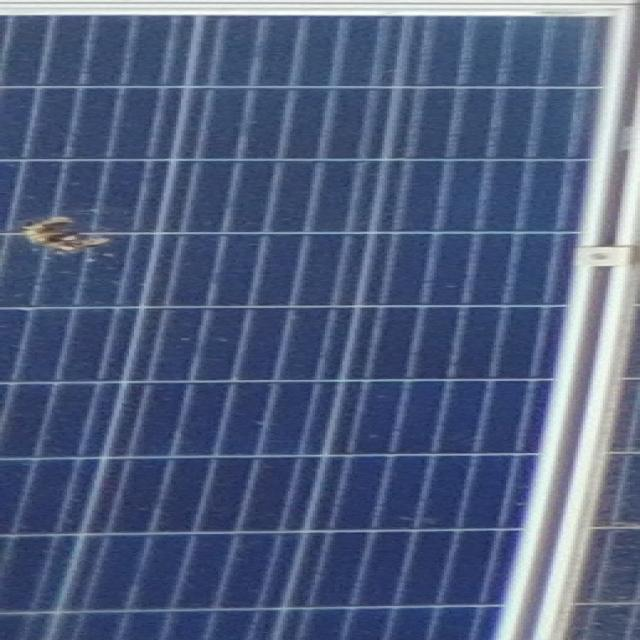bird-droppings: (19, 212, 128, 259)
